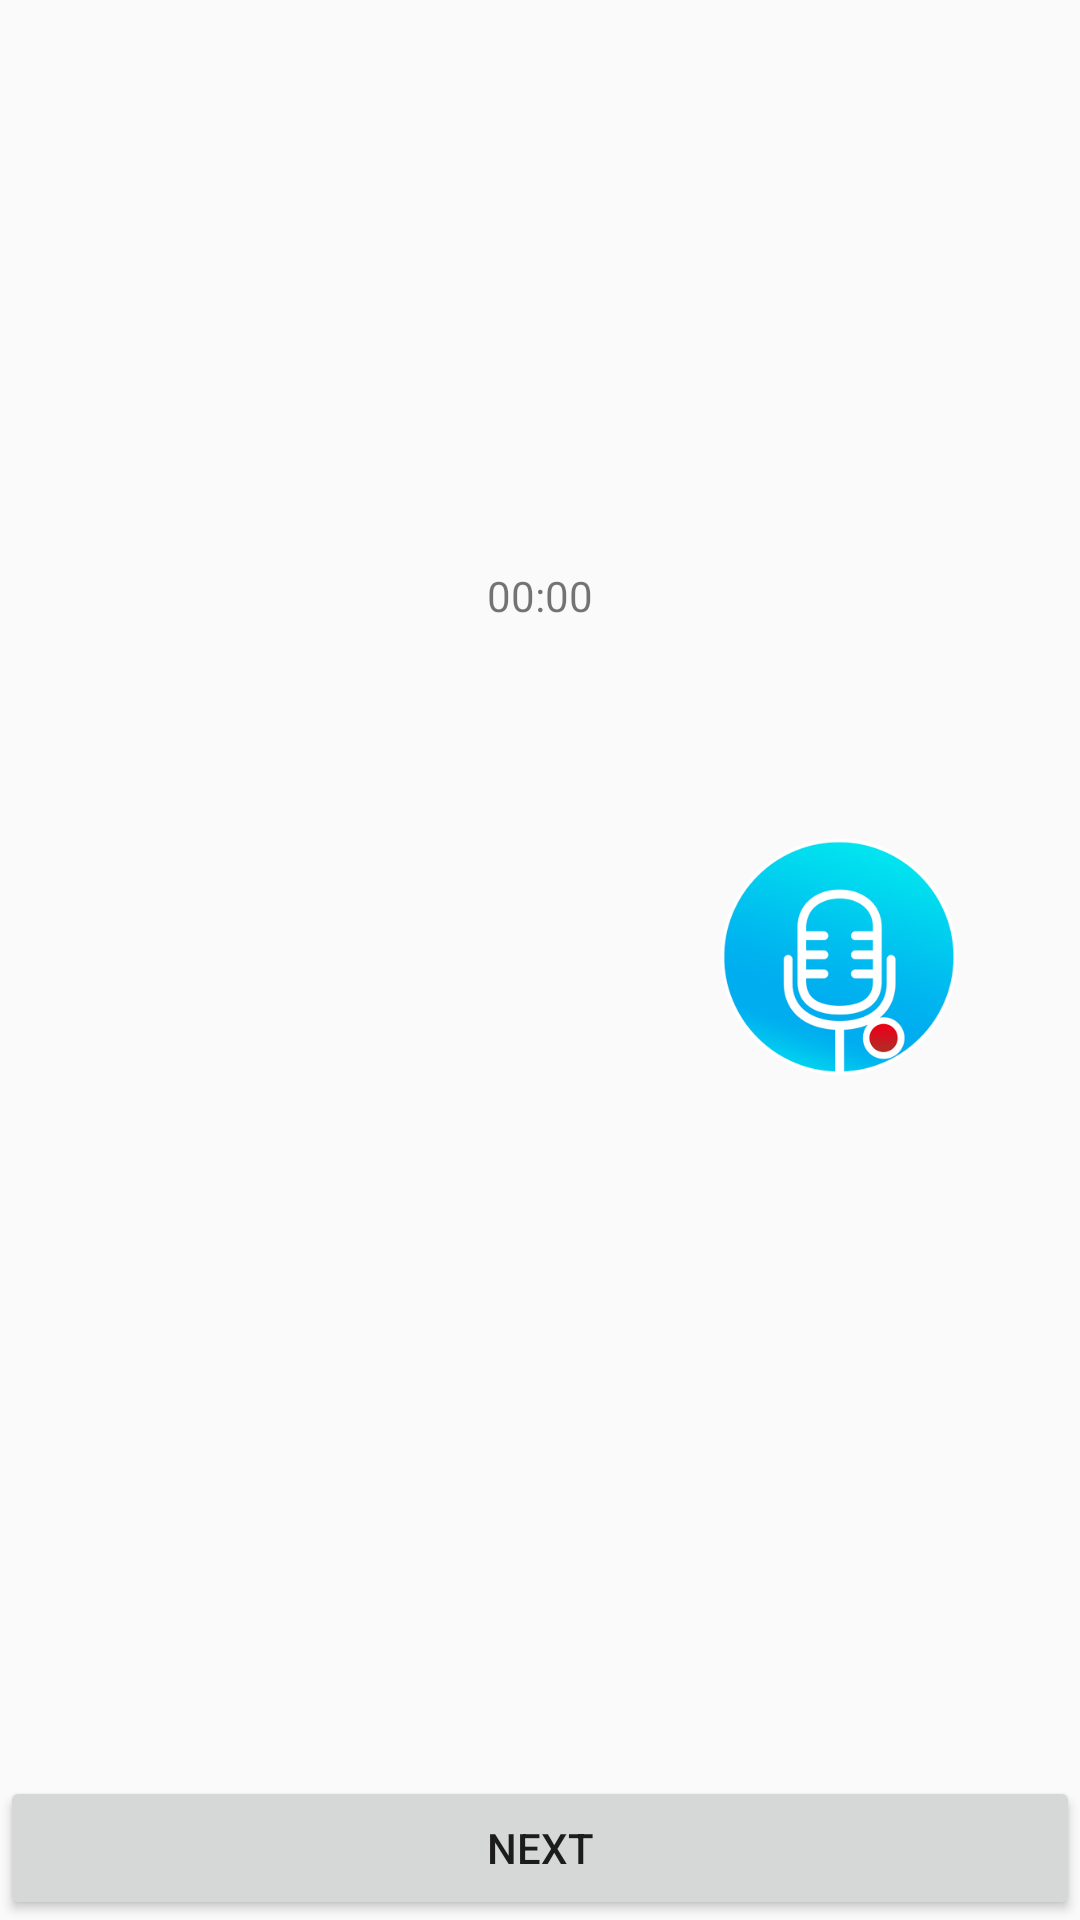

Icons on this 1080px×1920px Android screen, each with the point to tap as point (x, y):
record: point (839, 957)
